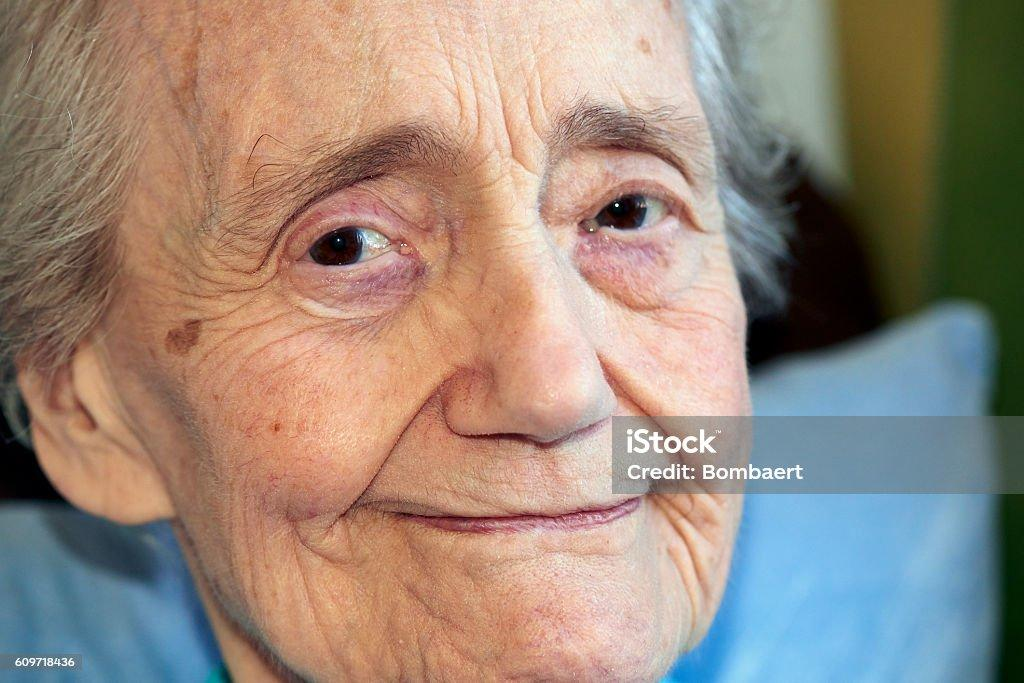Dry-Skin: (611, 283, 794, 496), (428, 558, 681, 683), (323, 0, 583, 119), (208, 253, 375, 415)
